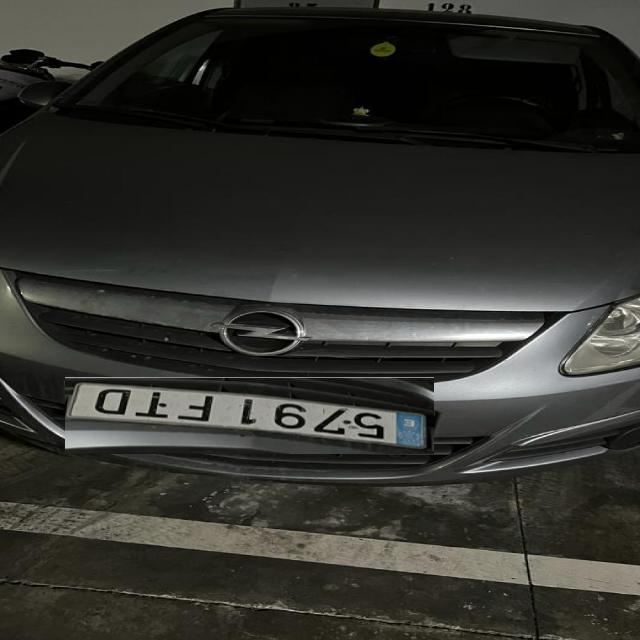License-Plate: (64, 377, 434, 454)
